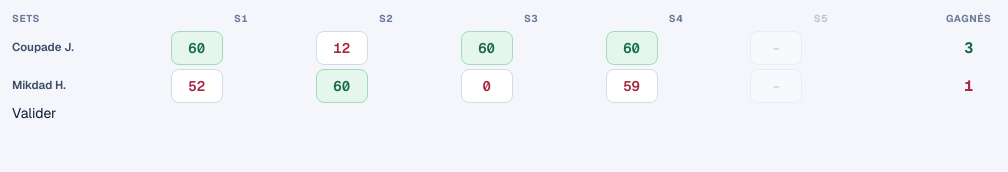
it: saisie d'un match en 3 sets gagnants à 60 › les sets au-delà de la fin du match sont désactivés et vidés
The image size is (1008, 172).
Replace the text in the number field named "Set 2, Coupade Jules" with "60" at (342, 48), box x1=316 y1=30 x2=368 y2=64
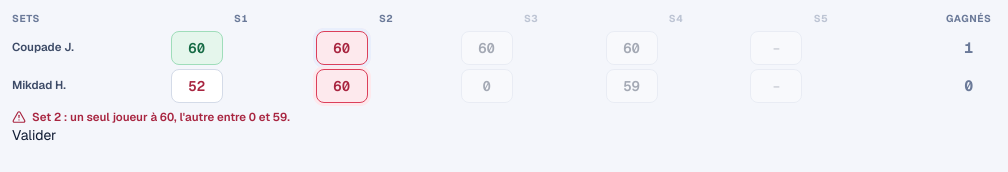
Replace the text in the number field named "Set 2, Mikdad Hakim" with "12" at (342, 86), box x1=316 y1=68 x2=368 y2=102
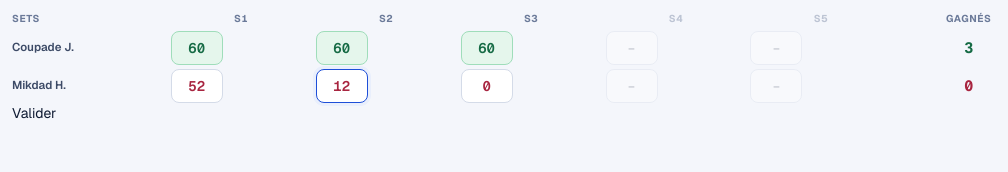
expect the text named "Sets gagnés par Coupade Jules" reads "3": met, box x1=964 y1=38 x2=973 y2=57
